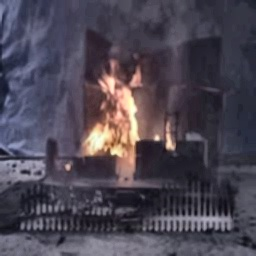fire: (86, 60, 149, 164)
